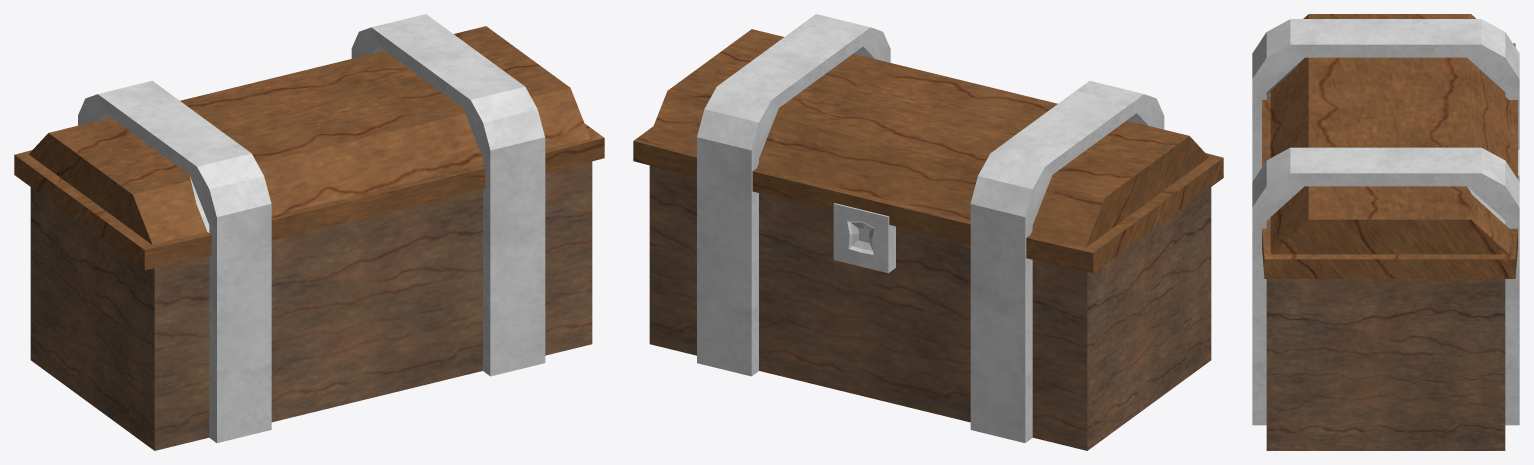
The model's file is Bau_Melhorado.fbx.
The picture shows the model from 3 angles, left to right: view 1: azimuth 30°, elevation 25°; view 2: azimuth 150°, elevation 25°; view 3: azimuth 270°, elevation 25°; orthographic projection. The views are drawn at different scales.
Visible parts, largest first — view 1: Bau_Inferior, Bau_Superior, Bau_metais; view 2: Bau_Inferior, Bau_Superior, Bau_metais, Bau_fechadura; view 3: Bau_Superior, Bau_Inferior, Bau_metais.
Part boxes in pixels (<box>): Bau_Inferior: <box>30,161,592,450</box>; Bau_Superior: <box>14,26,604,270</box>; Bau_metais: <box>78,14,545,442</box>; Bau_Inferior: <box>649,165,1211,450</box>; Bau_Superior: <box>633,29,1223,273</box>; Bau_metais: <box>697,14,1164,442</box>; Bau_fechadura: <box>833,203,895,273</box>; Bau_Superior: <box>1262,14,1517,278</box>; Bau_Inferior: <box>1266,93,1505,450</box>; Bau_metais: <box>1252,19,1519,425</box>.
Bounding box in the file's own units: 107 × 58.24 × 56.
4 materials, 4 textured.
